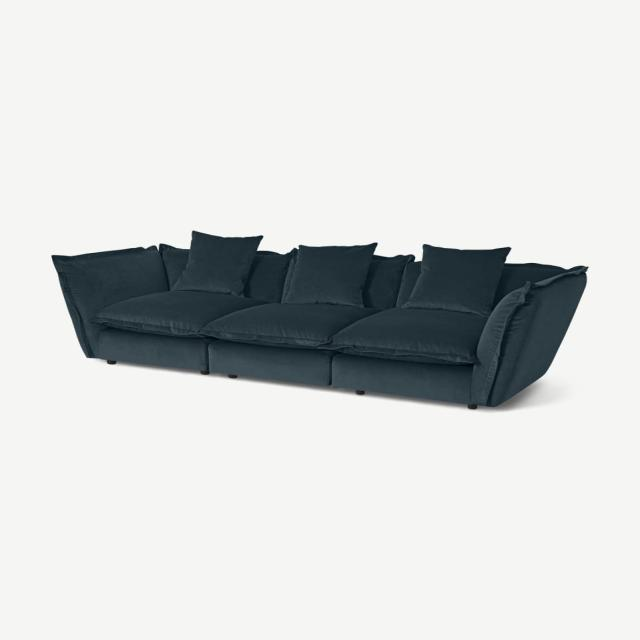back_cushion: (161, 231, 561, 315)
left_arm: (471, 267, 585, 406)
legs: (227, 374, 238, 379), (467, 404, 477, 409), (356, 390, 365, 395), (105, 360, 116, 364), (201, 371, 210, 374)
right_arm: (51, 246, 168, 357)
seat_cushion: (90, 292, 485, 403)
stallion-sofa: (0, 0, 639, 639)
